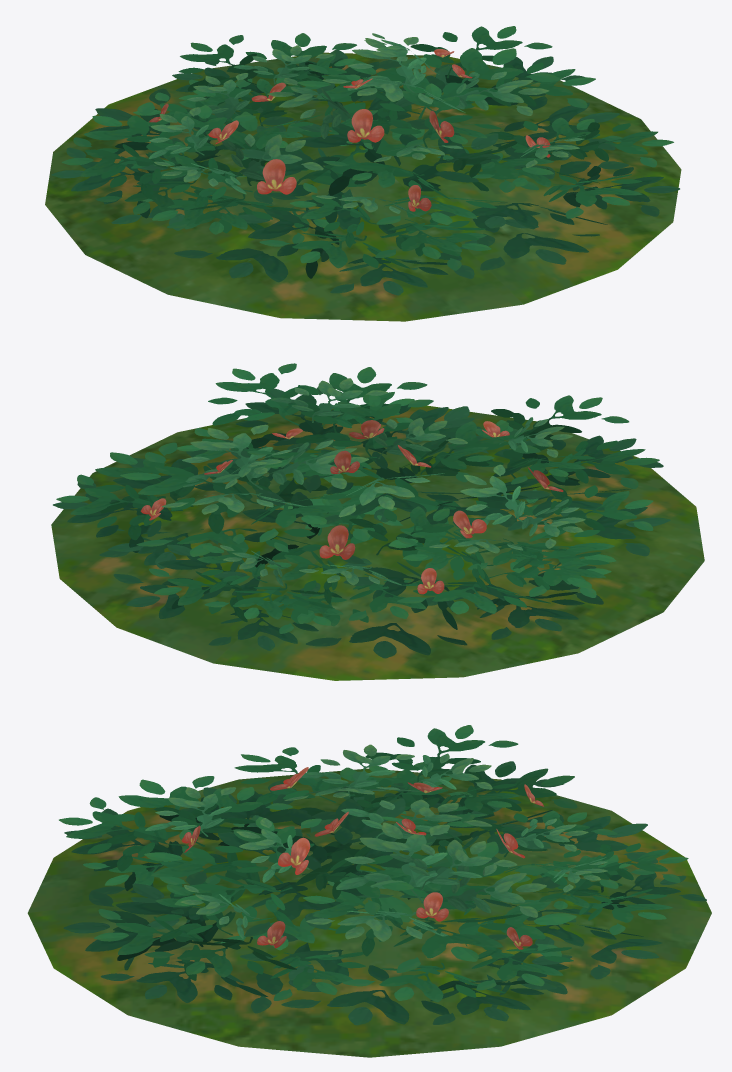
File: Homeworld_General_Common_Thing_Prop_Irodori_Viewforward_03_Vo.fbx
3 views of the same model, one above another, from view 1: azimuth 30°, elevation 25°; view 2: azimuth 150°, elevation 25°; view 3: azimuth 270°, elevation 25° (orthographic). The views are drawn at different scales.
Parts seen in each view (by area): view 1: Homeworld_General_Common_Thing_Prop_Irodori_Viewforward_03_V; view 2: Homeworld_General_Common_Thing_Prop_Irodori_Viewforward_03_V; view 3: Homeworld_General_Common_Thing_Prop_Irodori_Viewforward_03_V.
Boxes of the visible parts, left/top/right/bottom form: Homeworld_General_Common_Thing_Prop_Irodori_Viewforward_03_V: left=45, top=26, right=681, bottom=321; Homeworld_General_Common_Thing_Prop_Irodori_Viewforward_03_V: left=51, top=363, right=704, bottom=680; Homeworld_General_Common_Thing_Prop_Irodori_Viewforward_03_V: left=27, top=725, right=711, bottom=1057.
Bounding box in the file's own units: 0.7347 × 0.1587 × 0.7366.
